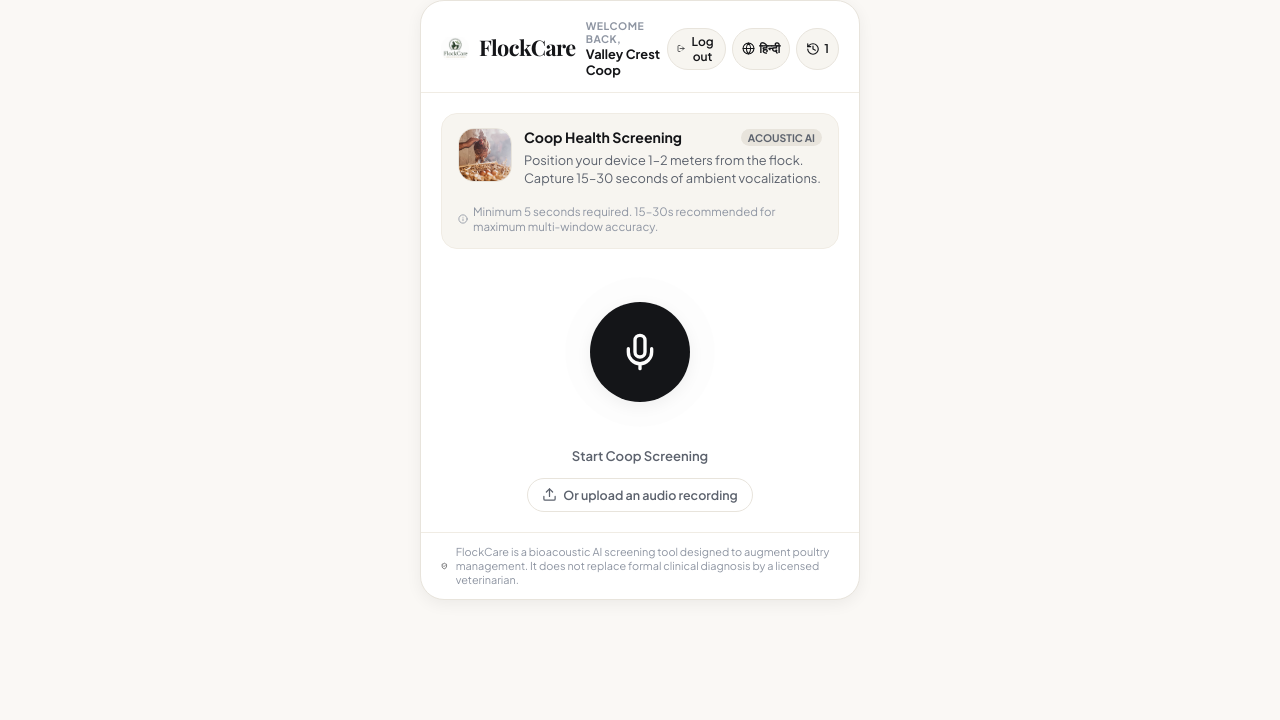
Test case: RecordScreen Component › opens history drawer when history button is clicked
This screenshot has width=1280, height=720.
Click the button titled "Screening History". click: (818, 48)
box: top-left (796, 28), bottom-right (839, 70)
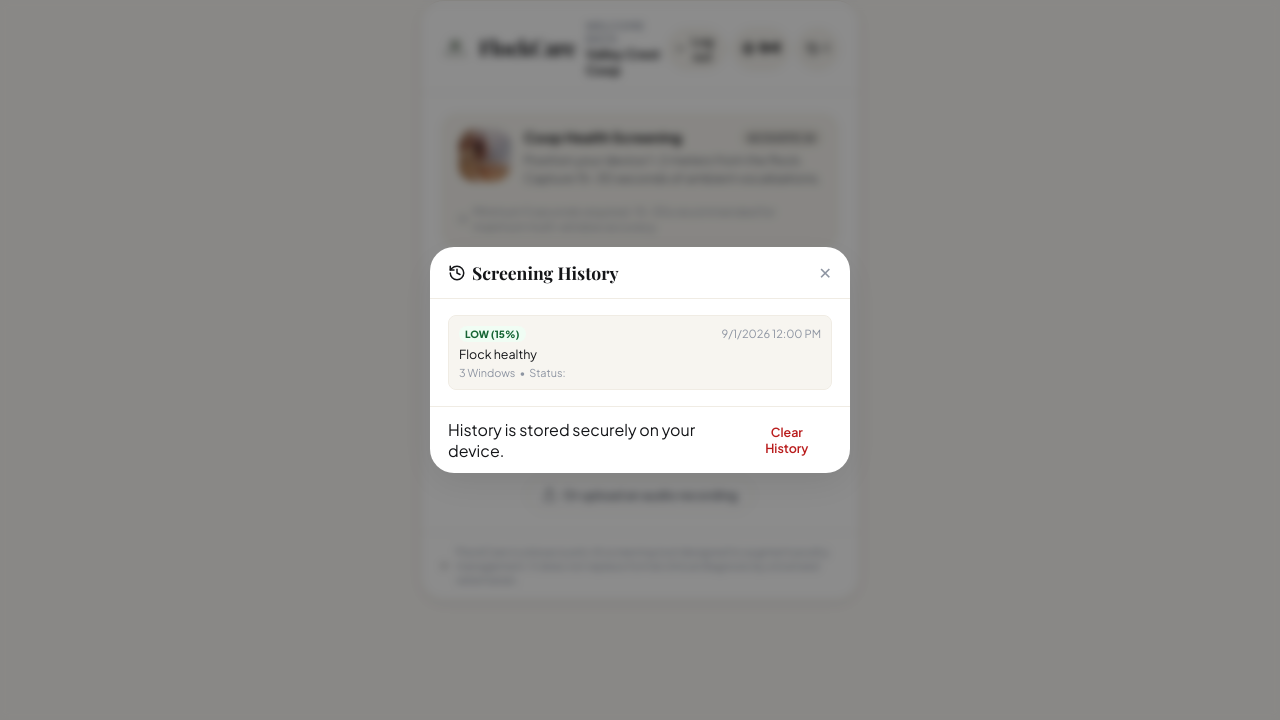
Now the heading "Screening History" is shown, box top-left (472, 261), bottom-right (619, 284)
Now the text "Flock healthy" is shown, box top-left (459, 346), bottom-right (537, 362)
